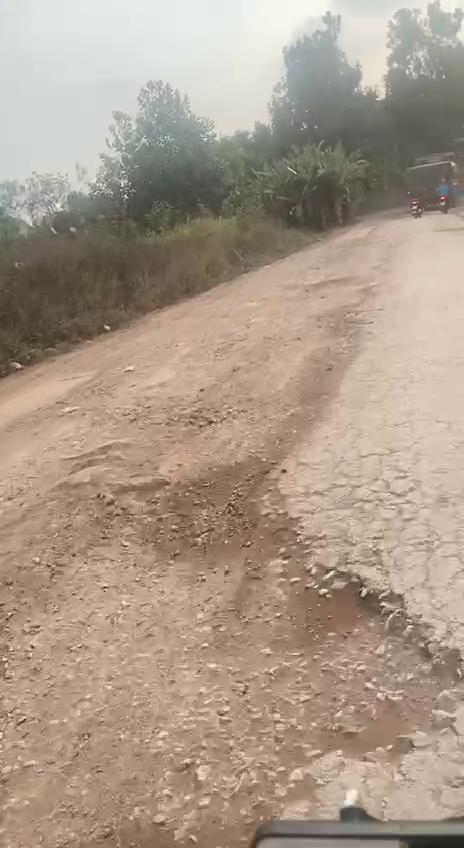pothole: (147, 479, 464, 783)
